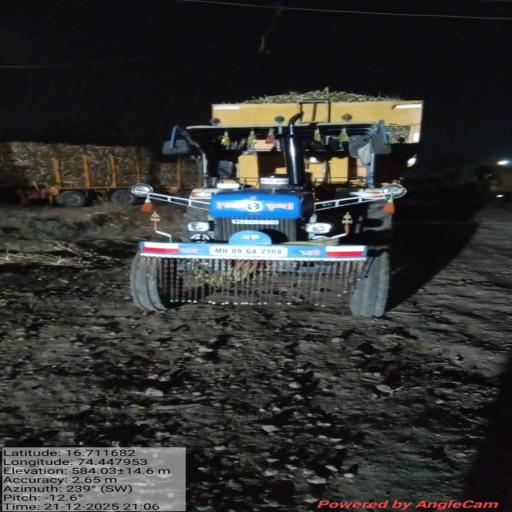number_plate: (186, 240, 298, 263)
